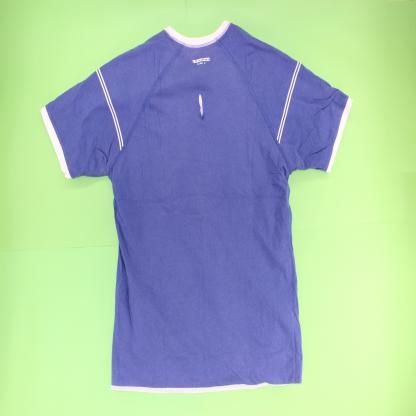hole: (198, 91, 205, 121)
